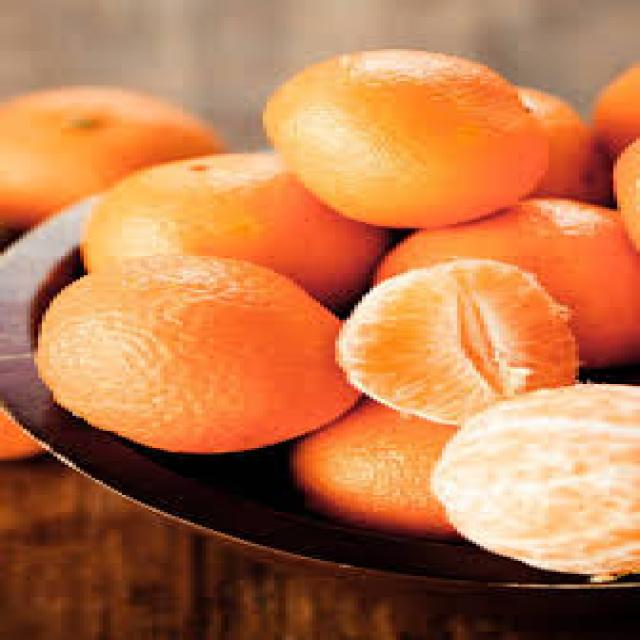orange: (259, 40, 556, 226)
